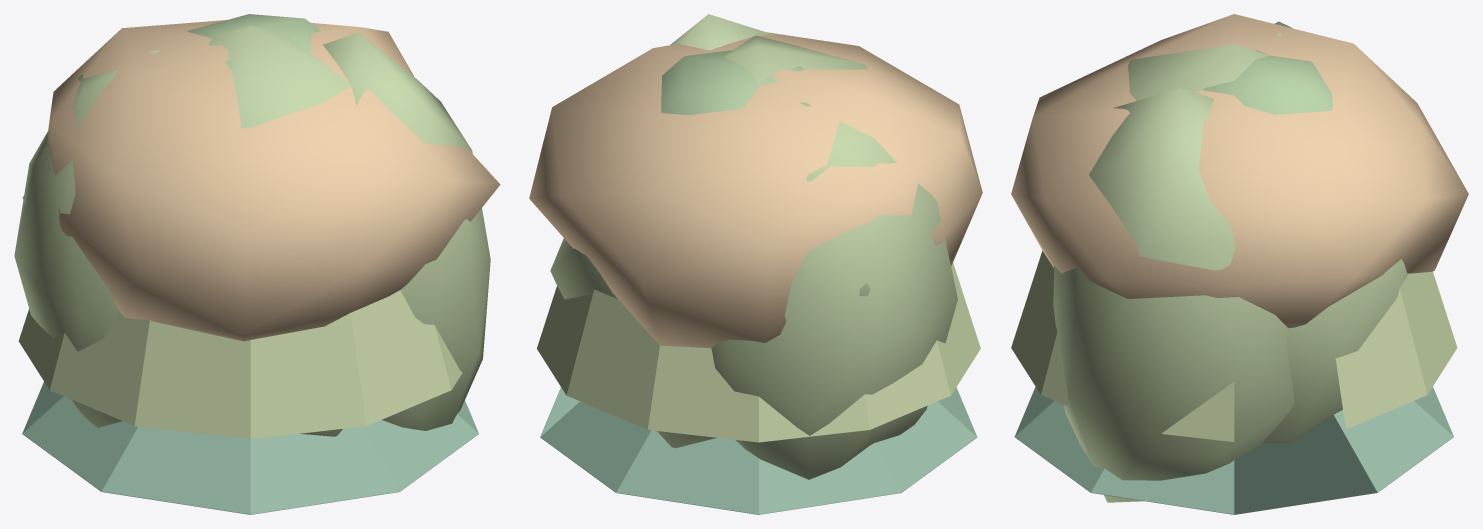
The model's file is heyuan_tree_prototypes.glb.
The picture shows the model from 3 angles, left to right: view 1: azimuth 30°, elevation 25°; view 2: azimuth 150°, elevation 25°; view 3: azimuth 270°, elevation 25°; orthographic projection. The views are drawn at different scales.
Visible parts, largest first — view 1: tree_proto_4, tree_proto_3, tree_proto_2, tree_proto_1, tree_proto_0; view 2: tree_proto_4, tree_proto_2, tree_proto_3, tree_proto_1, tree_proto_0; view 3: tree_proto_4, tree_proto_2, tree_proto_1, tree_proto_3, tree_proto_0.
Boxes of the visible parts, x1,y1,x2,y2 form: tree_proto_4: (46,20,500,341); tree_proto_3: (18,290,462,439); tree_proto_2: (14,25,490,436); tree_proto_1: (22,382,478,514); tree_proto_0: (22,14,320,204); tree_proto_4: (529,32,982,348); tree_proto_2: (550,14,957,479); tree_proto_3: (537,262,980,442); tree_proto_1: (540,387,977,514); tree_proto_0: (661,50,870,296); tree_proto_4: (1011,14,1468,328); tree_proto_2: (1053,21,1408,502); tree_proto_1: (1014,387,1453,514); tree_proto_3: (1011,251,1457,441); tree_proto_0: (1203,50,1332,114).
Bounding box in the file's own units: 1 × 1.03 × 1.03.
